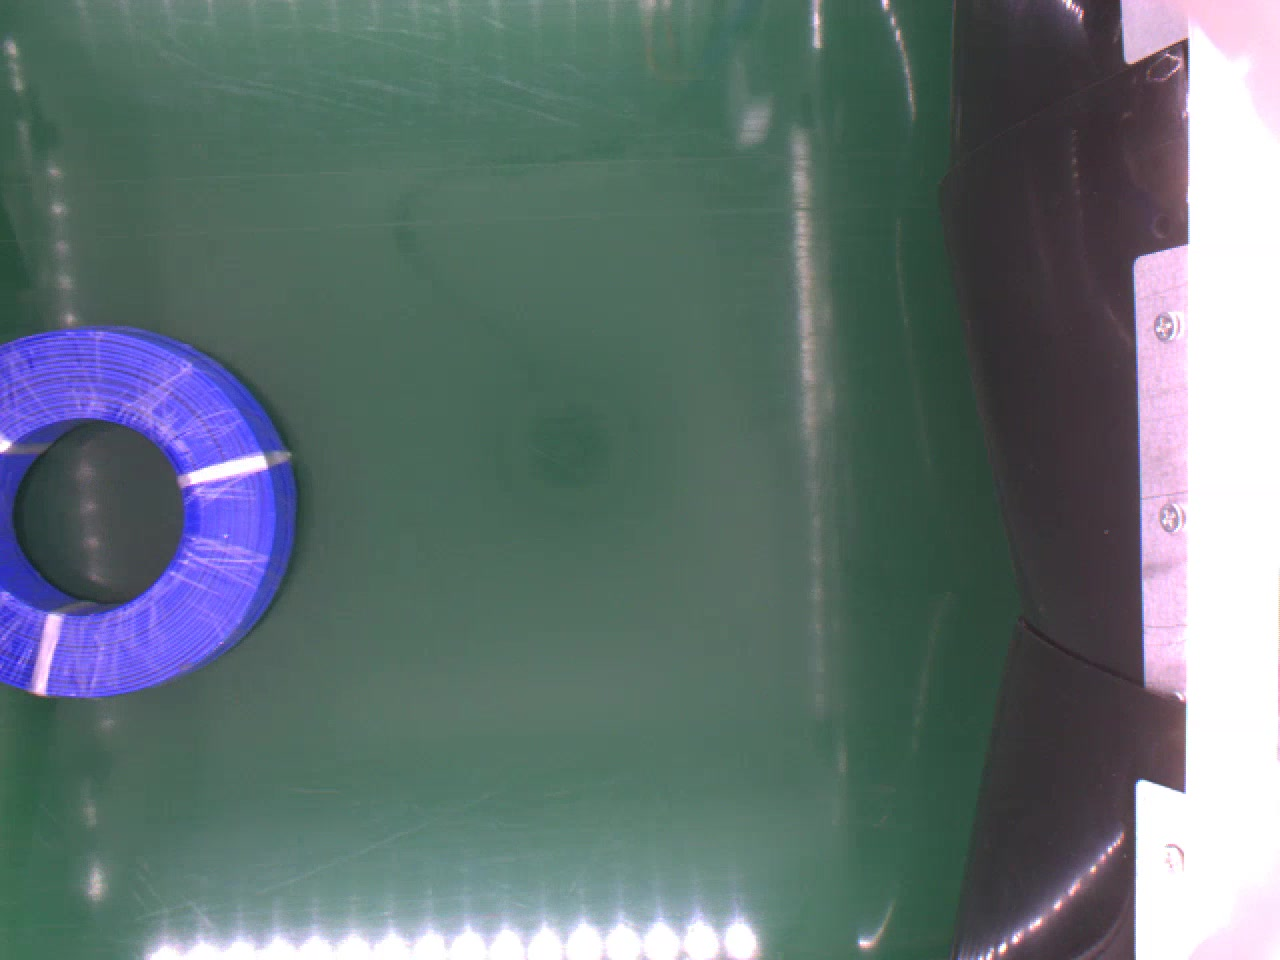blue: (0, 320, 295, 701)
